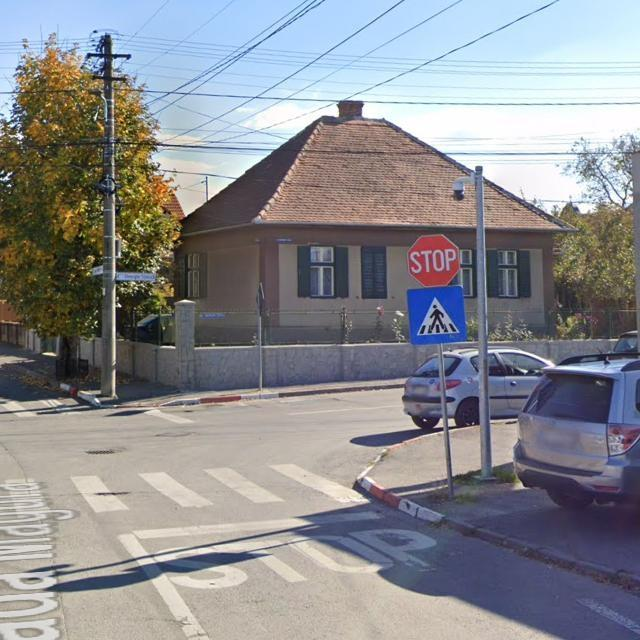info_crosswalk: (406, 287, 469, 345)
prio_stop: (408, 234, 461, 287)
